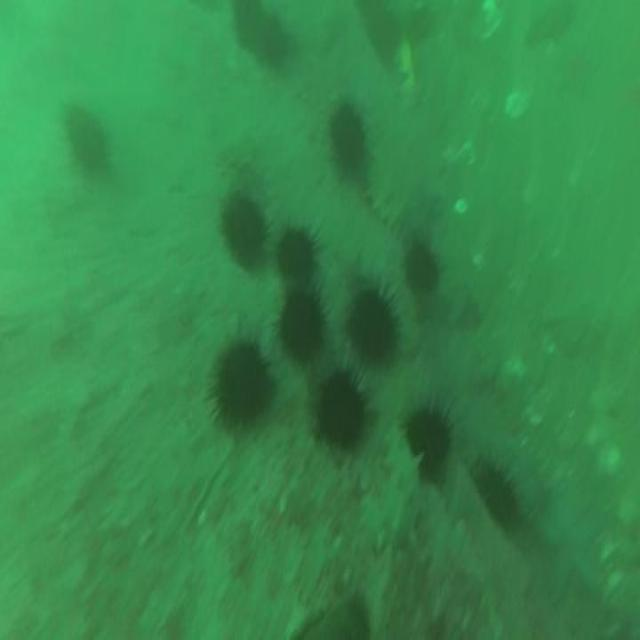echinus: (214, 338, 268, 427), (318, 373, 367, 450), (348, 292, 396, 363), (475, 455, 520, 528), (224, 186, 265, 264), (278, 297, 326, 360), (404, 403, 450, 468), (63, 108, 110, 168), (329, 106, 366, 172), (278, 226, 318, 281), (405, 248, 440, 296), (258, 16, 288, 71)
holothurian: (363, 258, 417, 356), (382, 427, 422, 545), (370, 155, 405, 234)
starfish: (541, 496, 600, 596)
